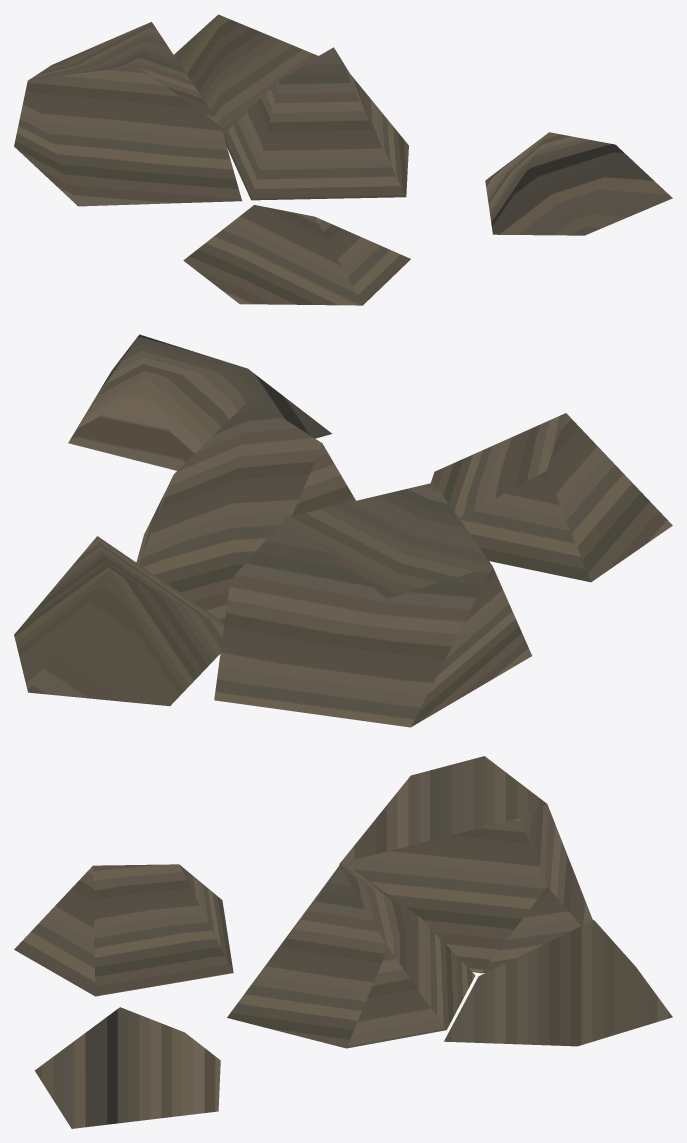
File: rock_gclump3_hdtex.glb
3 renders of one model, top to bottom at view 1: azimuth 30°, elevation 25°; view 2: azimuth 150°, elevation 25°; view 3: azimuth 270°, elevation 25°, orthographic. The views are drawn at different scales.
Visible parts, largest first — view 1: Rock_GClump3; view 2: Rock_GClump3; view 3: Rock_GClump3.
Part boxes in pixels (box(x1,y1,x2,y2)): Rock_GClump3: box(14, 14, 672, 305); Rock_GClump3: box(14, 334, 672, 727); Rock_GClump3: box(14, 756, 672, 1128).
Bounding box in the file's own units: 22.71 × 5.89 × 24.36.
Materials: 1 (1 with a texture image).
